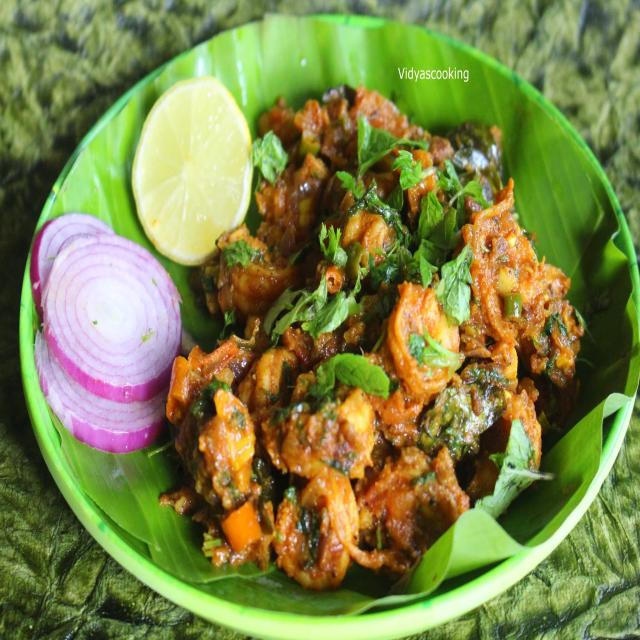prawn thokku: (190, 75, 590, 578)
